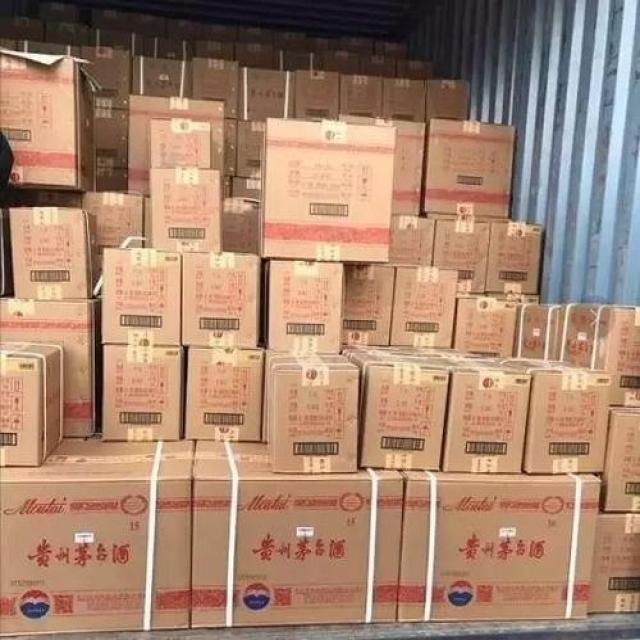box: (0, 424, 193, 637), (192, 441, 404, 628), (398, 471, 602, 622), (257, 117, 398, 262), (398, 345, 531, 473), (477, 353, 611, 473), (0, 46, 102, 193), (0, 298, 101, 438), (344, 348, 449, 470), (266, 350, 360, 473), (128, 93, 225, 199), (421, 118, 516, 218), (557, 302, 640, 407), (339, 114, 425, 215), (9, 207, 97, 299), (102, 247, 182, 348), (101, 346, 186, 441), (0, 341, 64, 466), (261, 260, 344, 353), (182, 252, 262, 348), (186, 348, 265, 442), (82, 191, 143, 296), (148, 168, 221, 252), (390, 264, 460, 348), (590, 513, 640, 614), (594, 407, 640, 510), (485, 219, 543, 294), (342, 262, 394, 345), (434, 219, 490, 292), (456, 298, 517, 357), (81, 46, 133, 109), (238, 67, 296, 122), (148, 117, 210, 168), (192, 56, 241, 119), (512, 303, 562, 359), (131, 55, 192, 98), (390, 215, 435, 265), (293, 70, 339, 118), (223, 198, 259, 253), (384, 76, 426, 123), (339, 73, 383, 117), (425, 79, 470, 122), (96, 109, 128, 167), (91, 28, 145, 55), (237, 119, 261, 178), (18, 190, 81, 209), (145, 35, 192, 60), (276, 46, 323, 71), (45, 20, 90, 46), (0, 207, 13, 295), (0, 16, 44, 41), (236, 43, 276, 70), (127, 12, 165, 37), (18, 41, 79, 56), (192, 39, 236, 59), (325, 51, 361, 75), (92, 7, 129, 30), (361, 52, 396, 76), (96, 167, 128, 193), (38, 0, 77, 21), (165, 17, 202, 38), (271, 30, 306, 50), (225, 118, 237, 176), (201, 22, 237, 41), (397, 59, 434, 77), (426, 214, 508, 222), (237, 26, 273, 43), (338, 35, 374, 52), (486, 292, 539, 303), (233, 178, 260, 199), (375, 39, 403, 59), (143, 197, 152, 247), (306, 37, 338, 51), (0, 38, 17, 50), (457, 291, 486, 298), (225, 177, 232, 198)
